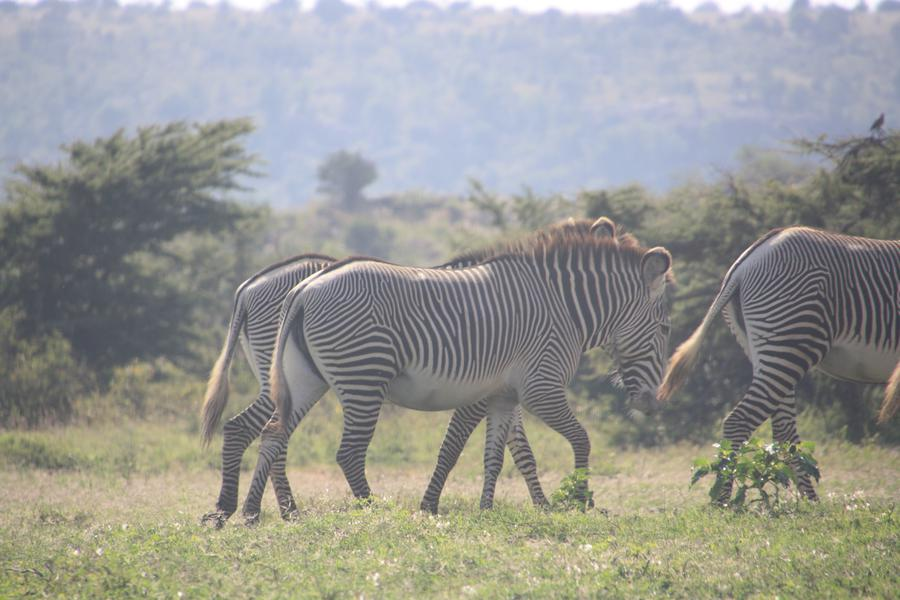zebra_grevys: (286, 253, 575, 394)
